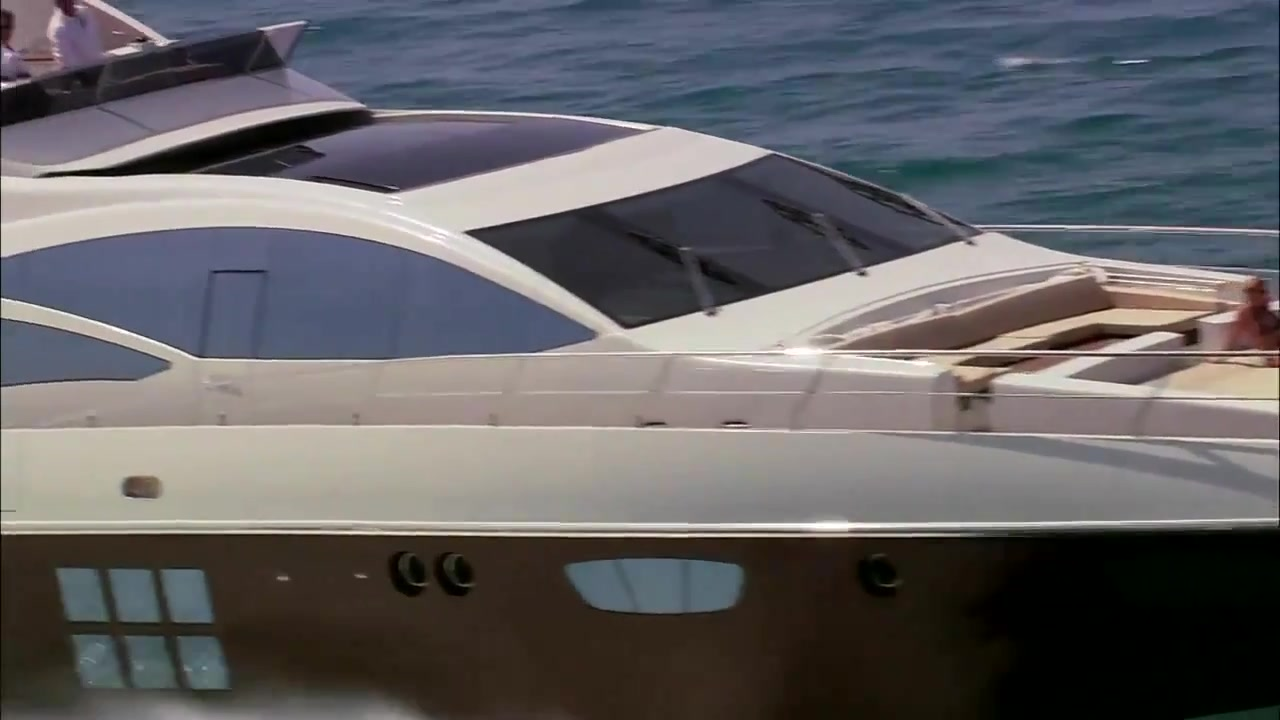boat: (3, 2, 1280, 720)
